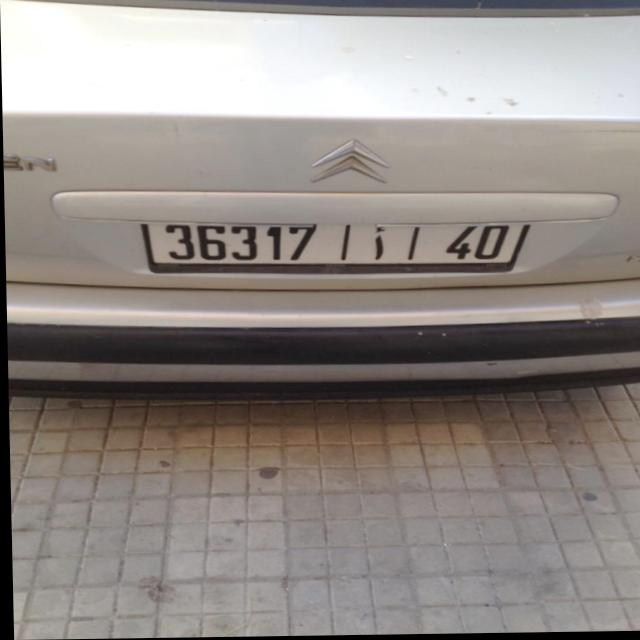License-Plate: (142, 223, 529, 275)
